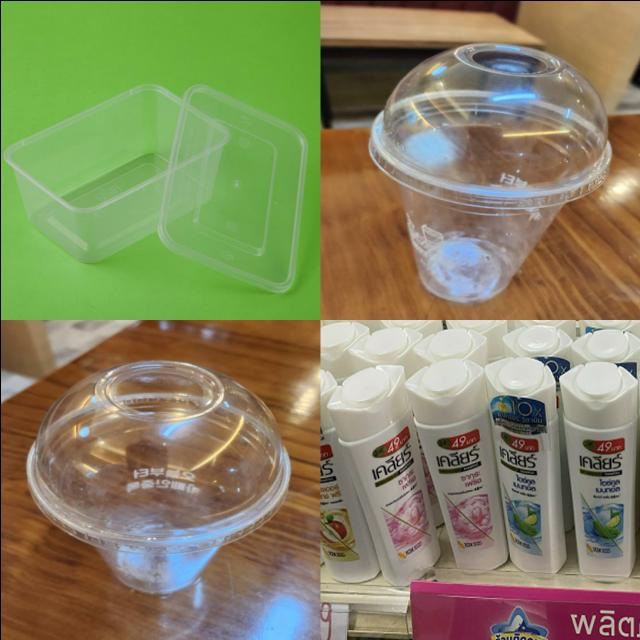plastik: (369, 42, 610, 301), (26, 359, 289, 593), (4, 84, 180, 261), (157, 85, 307, 291), (326, 364, 439, 585), (404, 358, 507, 567), (483, 357, 565, 571), (560, 361, 636, 575), (320, 369, 379, 582)
